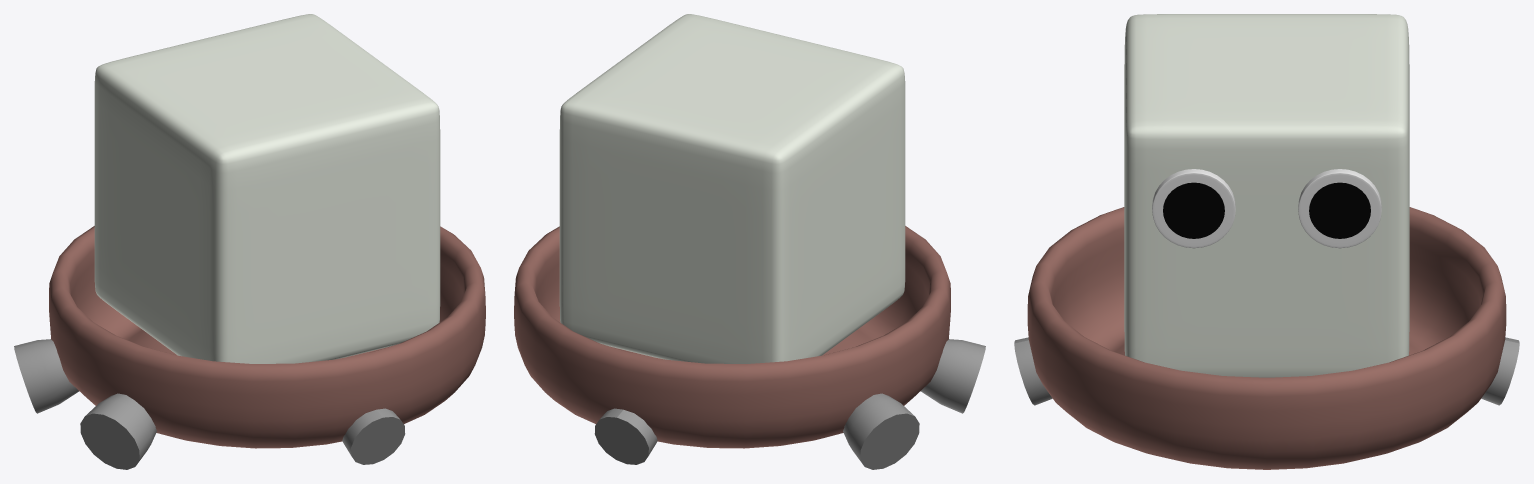
Rendered from Gurut.fbx.
3 renders of one model, left to right at view 1: azimuth 30°, elevation 25°; view 2: azimuth 150°, elevation 25°; view 3: azimuth 270°, elevation 25°, orthographic. The views are drawn at different scales.
Visible parts, largest first — view 1: tofu, Cylinder, Cylinder.002, Cylinder.001; view 2: tofu, Cylinder, Cylinder.002, Cylinder.001; view 3: tofu, Cylinder, eyeR.001, eyeR, Cylinder.001.
Boxes of the visible parts, x1,y1,x2,y2 form: tofu: [94, 14, 440, 363]; Cylinder: [49, 226, 485, 448]; Cylinder.002: [14, 339, 156, 469]; Cylinder.001: [342, 408, 405, 464]; tofu: [559, 14, 905, 363]; Cylinder: [514, 226, 950, 448]; Cylinder.002: [843, 339, 985, 469]; Cylinder.001: [594, 408, 657, 464]; tofu: [1124, 14, 1409, 377]; Cylinder: [1027, 207, 1506, 469]; eyeR.001: [1163, 182, 1370, 238]; eyeR: [1152, 169, 1381, 248]; Cylinder.001: [1014, 337, 1519, 405].
Bounding box in the file's own units: 358 × 263 × 354.
